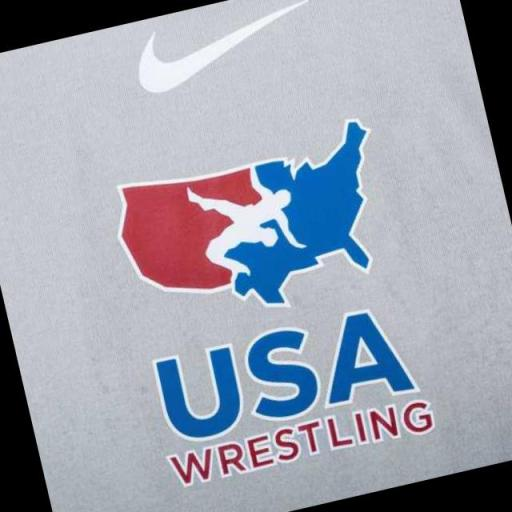Nike: (123, 0, 325, 102)
